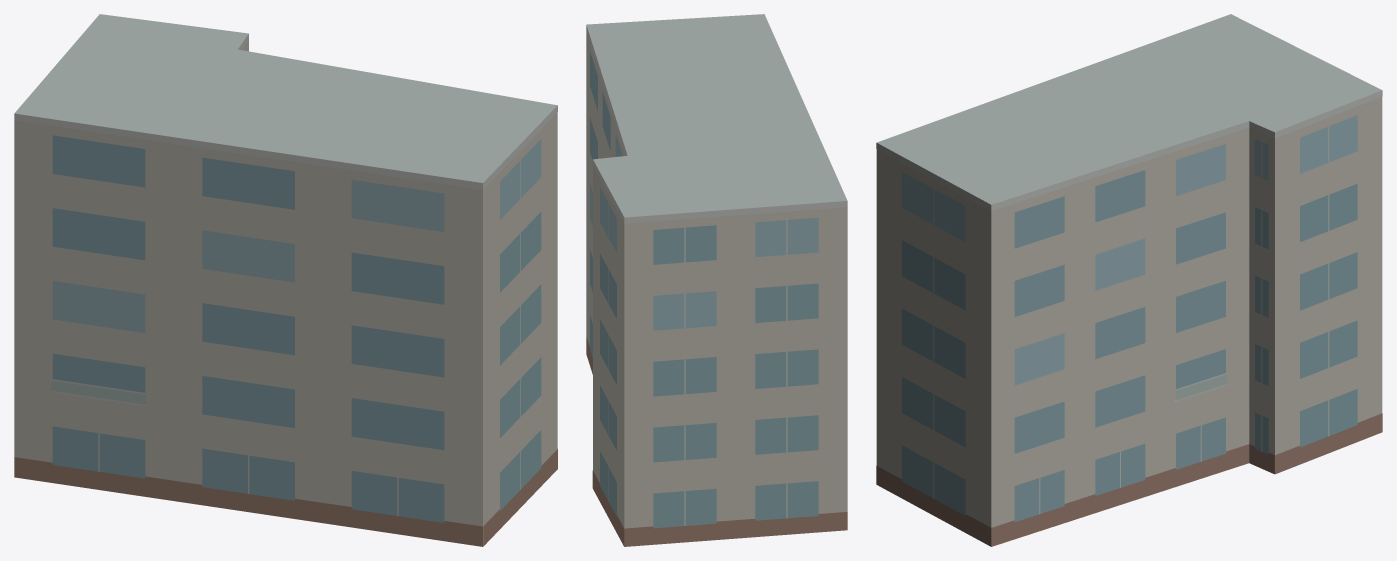
The model's file is survey-upis-33021196.glb.
3 views of the same model, side by side, from view 1: azimuth 30°, elevation 25°; view 2: azimuth 150°, elevation 25°; view 3: azimuth 270°, elevation 25° (orthographic). The views are drawn at different scales.
Parts seen in each view (by area): view 1: survey-upis-33021196.tmp; view 2: survey-upis-33021196.tmp; view 3: survey-upis-33021196.tmp.
Boxes of the visible parts, x1,y1,x2,y2 form: survey-upis-33021196.tmp: (14,14,557,546); survey-upis-33021196.tmp: (586,14,847,546); survey-upis-33021196.tmp: (876,14,1382,546).
Bounding box in the file's own units: 15.8 × 13.2 × 17.7.
